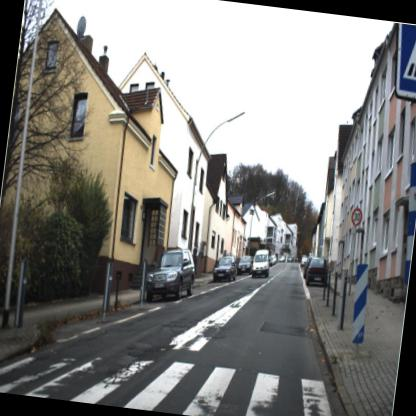mandatory: (388, 23, 415, 105)
prohibitory: (348, 207, 364, 226)
